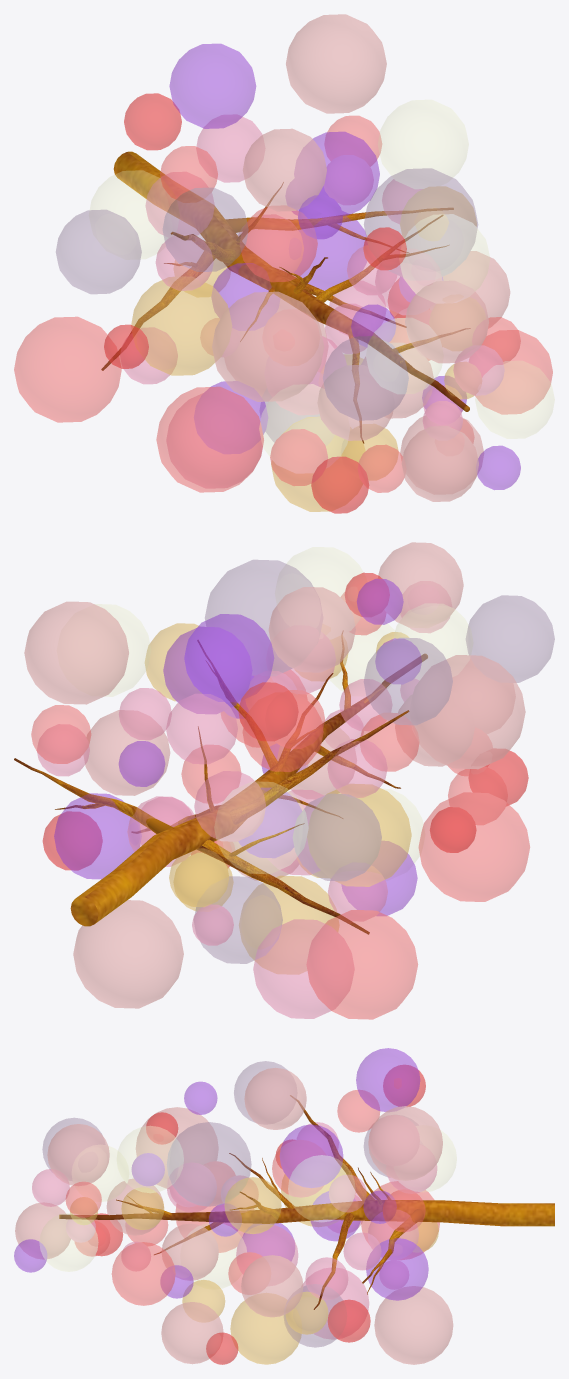
3 renders of one model, top to bottom at view 1: azimuth 30°, elevation 25°; view 2: azimuth 150°, elevation 25°; view 3: azimuth 270°, elevation 25°, orthographic. The views are drawn at different scales.
Visible parts, largest first — view 1: Sphere.053_0; view 2: Sphere.053_0; view 3: Sphere.053_0.
Boxes of the visible parts, x1,y1,x2,y2 form: Sphere.053_0: (14, 14, 554, 513); Sphere.053_0: (14, 542, 554, 1019); Sphere.053_0: (14, 1048, 554, 1364).
Bounding box in the file's own units: 5.46 × 5.21 × 8.47.
Materials: 21 (13 with a texture image).
